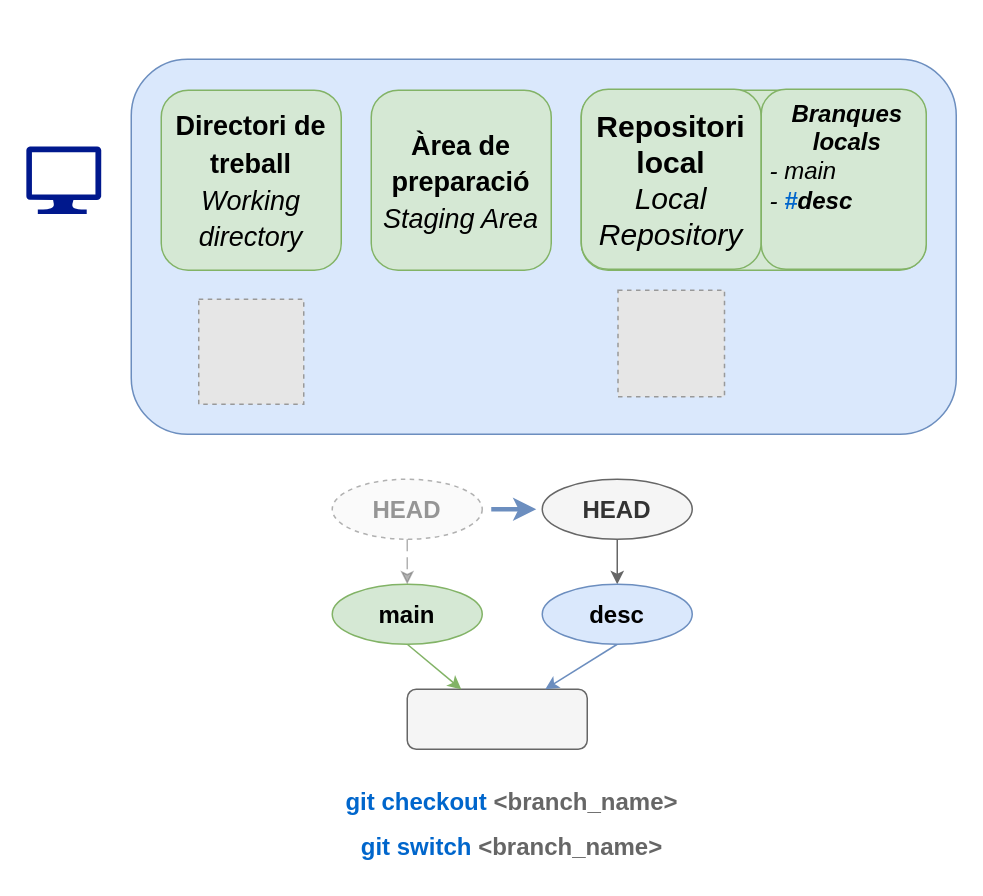
Some shapes in this 983 by 896 pixel diagram are drawn without their labels. Grey dashed boxes stand in for pictures. Here are the shapes that lost their labels. From the top down, the box of each, then its label:
(130, 58, 956, 434): Local - Entorn de desenvolupament
(406, 688, 587, 749): Títol 0b1b3b4
